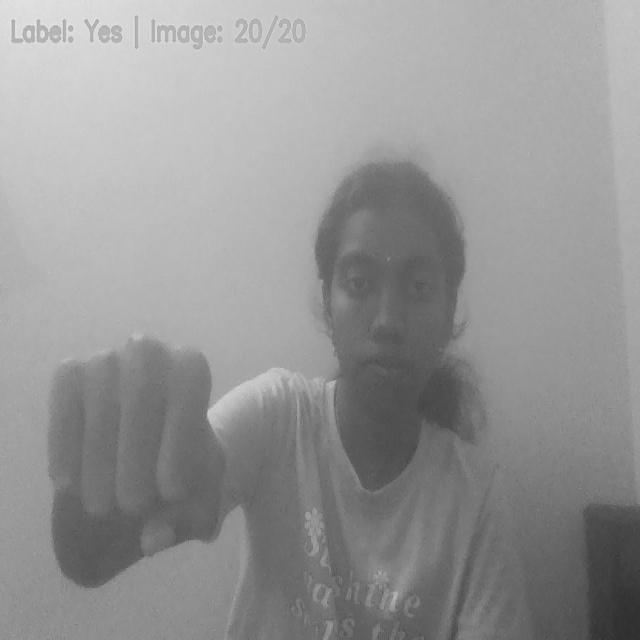Yes: (44, 333, 233, 562)
